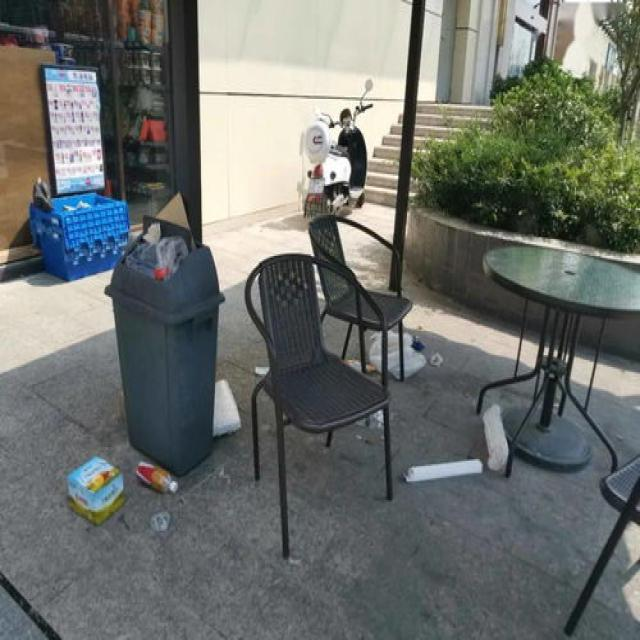garbage: (343, 328, 508, 483), (59, 454, 177, 522)
overflow: (104, 215, 224, 474)
